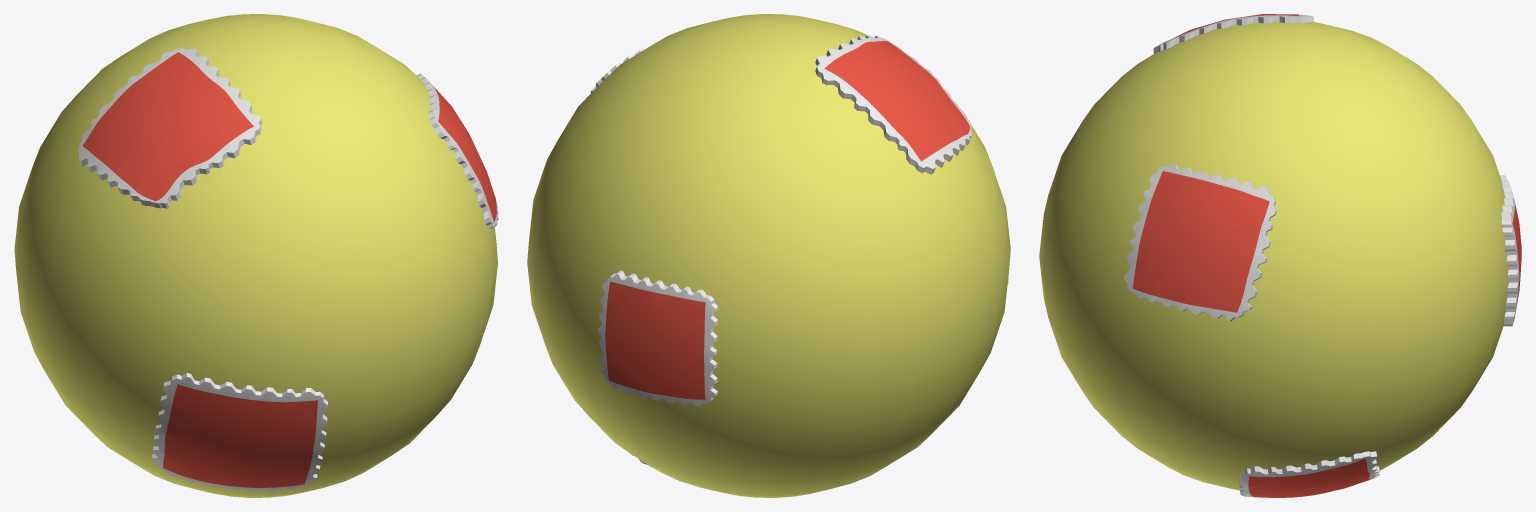
File: sphere_five_stamp.fbx
3 renders of one model, left to right at view 1: azimuth 30°, elevation 25°; view 2: azimuth 150°, elevation 25°; view 3: azimuth 270°, elevation 25°, orthographic.
Visible parts, largest first — view 1: Sphere, Cube.003, Cube.002, Cube.001; view 2: Sphere, Cube, Cube.003; view 3: Sphere, Cube.001, Cube.004, Cube, Cube.003.
Boxes of the visible parts, x1,y1,x2,y2 form: Sphere: [14, 14, 497, 497]; Cube.003: [78, 48, 262, 208]; Cube.002: [151, 372, 327, 491]; Cube.001: [416, 73, 498, 228]; Sphere: [527, 14, 1010, 497]; Cube: [598, 270, 718, 406]; Cube.003: [815, 35, 971, 174]; Sphere: [1039, 21, 1509, 490]; Cube.001: [1124, 164, 1276, 321]; Cube.004: [1239, 451, 1379, 497]; Cube: [1500, 175, 1521, 326]; Cube.003: [1153, 14, 1313, 53].
Size of the model in its own units: 100 by 100 by 101.
